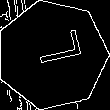L_W: (24, 34, 81, 76)
